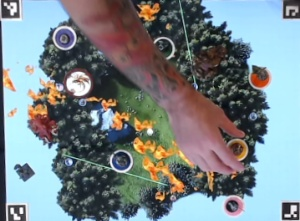blue: (106, 147, 134, 172)
green: (150, 34, 176, 61)
orange: (246, 64, 272, 91)
pink: (221, 193, 245, 218)
violet: (52, 24, 78, 50)
yellow: (227, 136, 248, 160)
